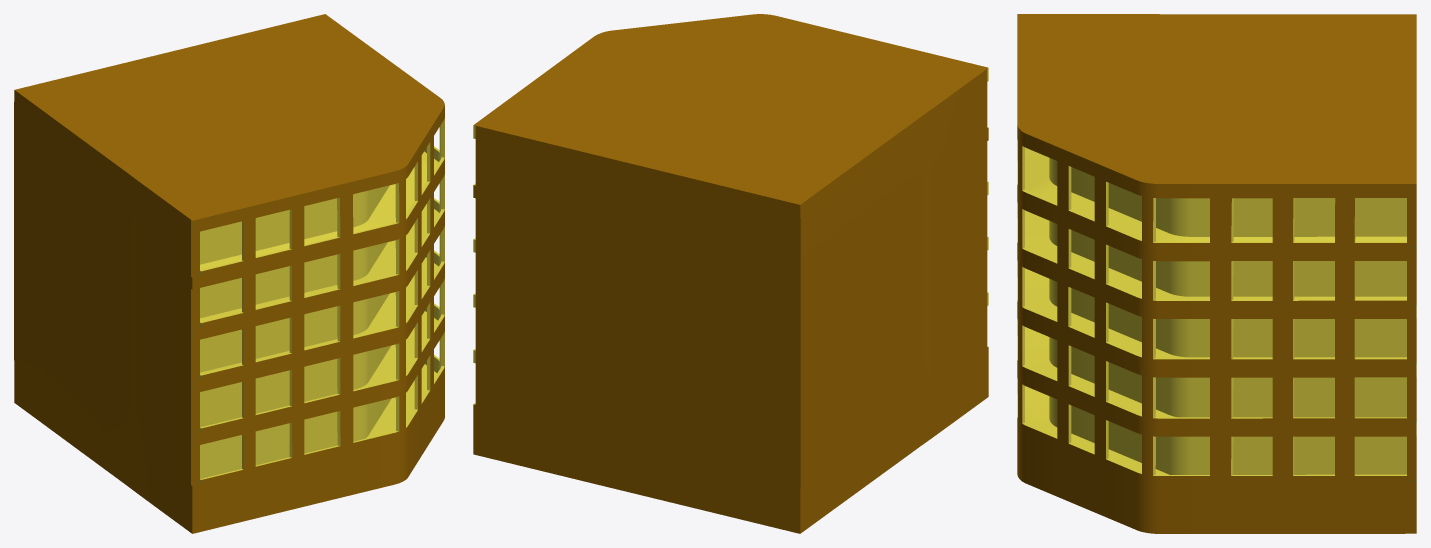
Rendered from Nha chat goc.fbx.
The picture shows the model from 3 angles, left to right: view 1: azimuth 30°, elevation 25°; view 2: azimuth 150°, elevation 25°; view 3: azimuth 270°, elevation 25°; orthographic projection. The views are drawn at different scales.
Visible parts, largest first — view 1: Nha chat goc; view 2: Nha chat goc; view 3: Nha chat goc.
Part boxes in pixels (left/top/right/bottom): Nha chat goc: left=14, top=14, right=444, bottom=533; Nha chat goc: left=473, top=14, right=988, bottom=533; Nha chat goc: left=1017, top=14, right=1416, bottom=533.
Bounding box in the file's own units: 625 × 600 × 620.
